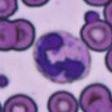N: (32, 30, 91, 82)
